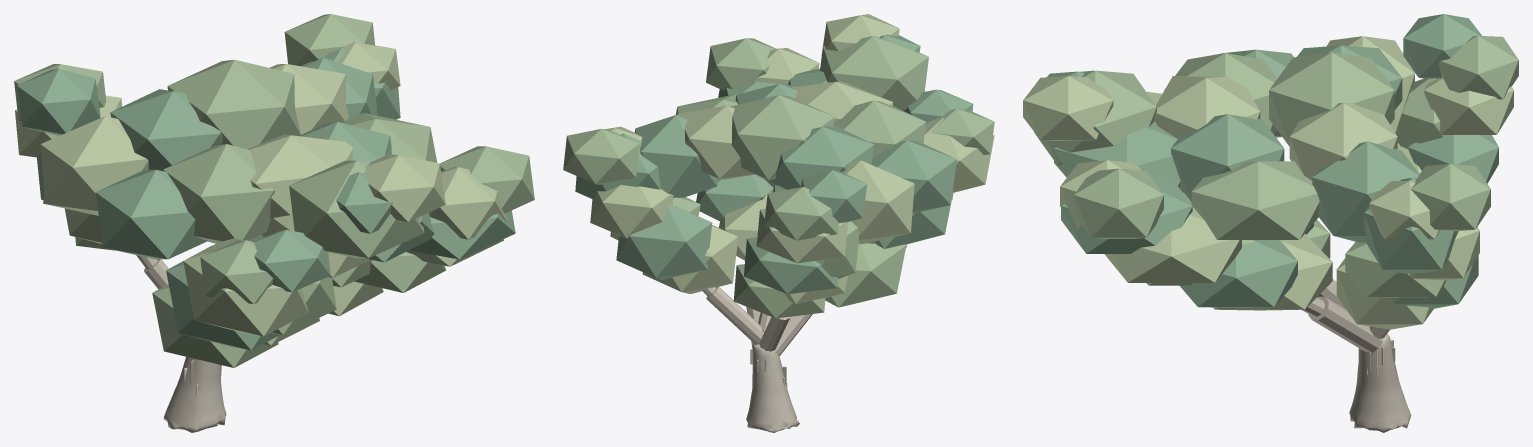
The model's file is plane-tree-b.glb.
3 views of the same model, side by side, from view 1: azimuth 30°, elevation 25°; view 2: azimuth 150°, elevation 25°; view 3: azimuth 270°, elevation 25° (orthographic). The views are drawn at different scales.
Visible parts, largest first — view 1: plane-tree-b; view 2: plane-tree-b; view 3: plane-tree-b.
Part boxes in pixels (left/top/right/bottom): plane-tree-b: left=14, top=14, right=534, bottom=432; plane-tree-b: left=563, top=14, right=994, bottom=432; plane-tree-b: left=1023, top=14, right=1518, bottom=432.
Bounding box in the file's own units: 9.21 × 8.75 × 10.46.
